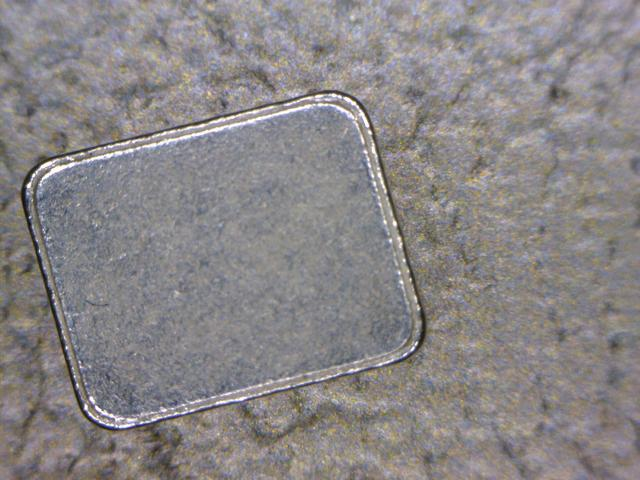nok: (18, 88, 432, 428)
